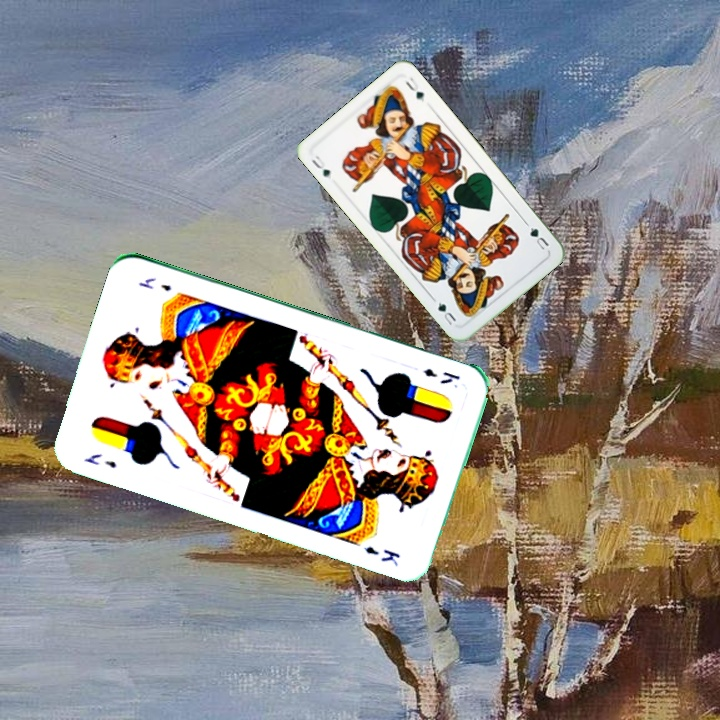EK: (419, 364, 463, 387), (80, 449, 119, 471)
GU: (526, 223, 552, 254), (308, 151, 334, 182)
